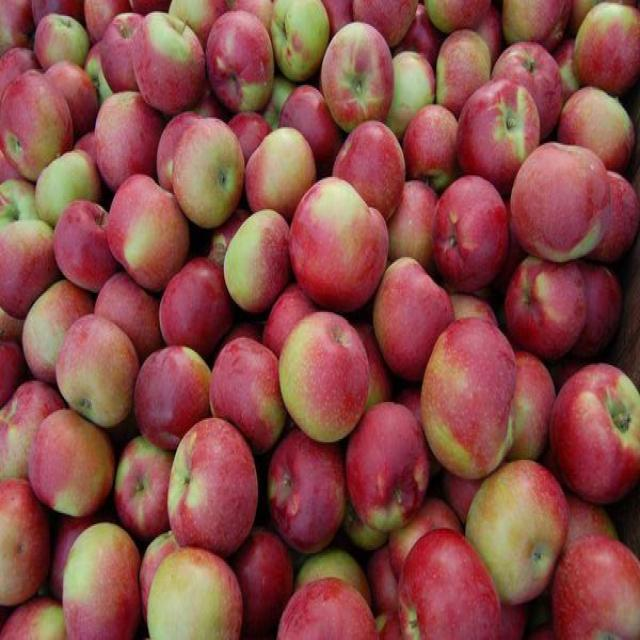Healty Apple: (420, 316, 518, 477), (463, 462, 567, 604), (288, 174, 389, 311), (544, 362, 640, 504), (507, 136, 611, 264), (165, 415, 258, 555), (277, 312, 372, 445), (401, 532, 503, 640), (348, 403, 431, 532), (106, 177, 188, 302), (498, 252, 589, 362), (268, 431, 349, 554), (208, 333, 286, 458), (170, 113, 249, 236), (115, 434, 200, 545), (50, 318, 136, 427), (454, 82, 538, 193), (67, 519, 143, 640), (373, 260, 452, 376), (144, 546, 241, 640), (550, 540, 640, 640), (433, 174, 508, 292), (133, 348, 214, 457), (319, 20, 399, 130), (236, 127, 317, 232), (158, 258, 233, 370), (34, 410, 110, 520), (486, 42, 561, 153), (556, 82, 632, 190), (1, 180, 62, 313), (131, 8, 205, 117), (224, 212, 297, 320), (6, 71, 74, 184), (24, 282, 96, 388), (206, 11, 274, 116), (92, 94, 162, 194), (0, 471, 53, 603), (571, 1, 640, 102), (380, 54, 441, 164), (274, 579, 376, 640), (225, 530, 286, 632), (54, 203, 121, 295), (432, 29, 488, 138), (35, 148, 100, 240), (270, 2, 328, 81), (31, 18, 91, 84)
